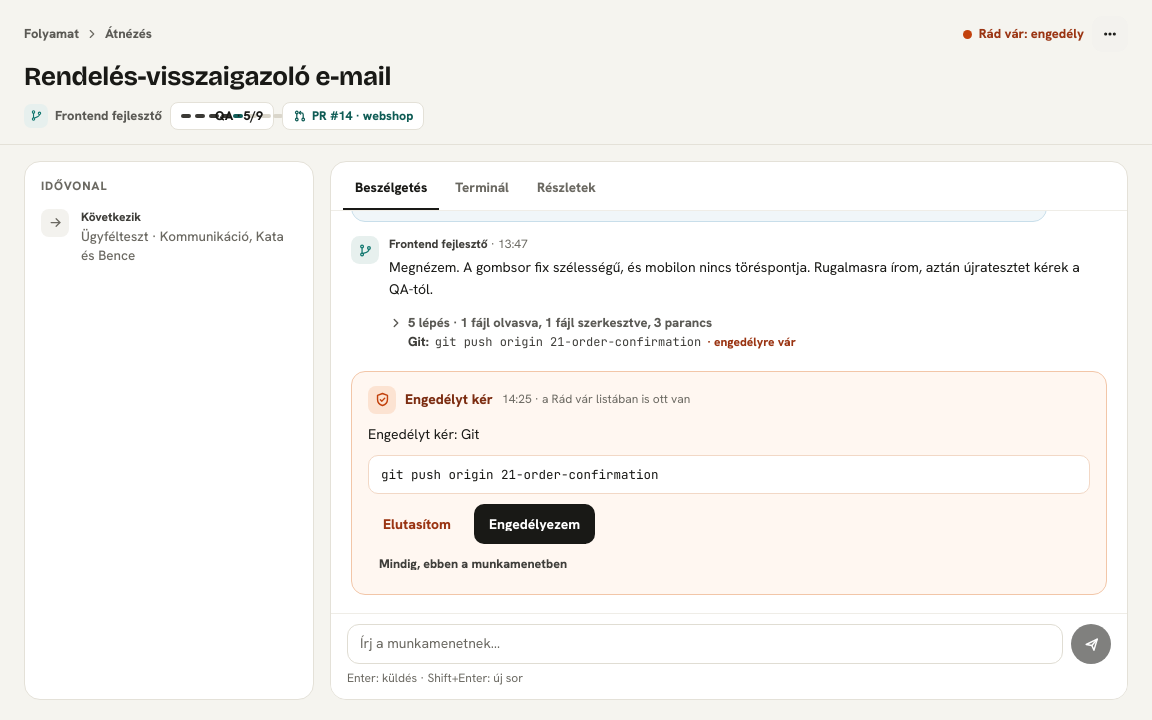
Scenario: session details public settings › shows AI model and permission mode from MemberView without fetching config
This screenshot has width=1152, height=720.
(page scrolled)
Click the tab "Részletek".
click(566, 189)  # box [525, 168, 608, 210]
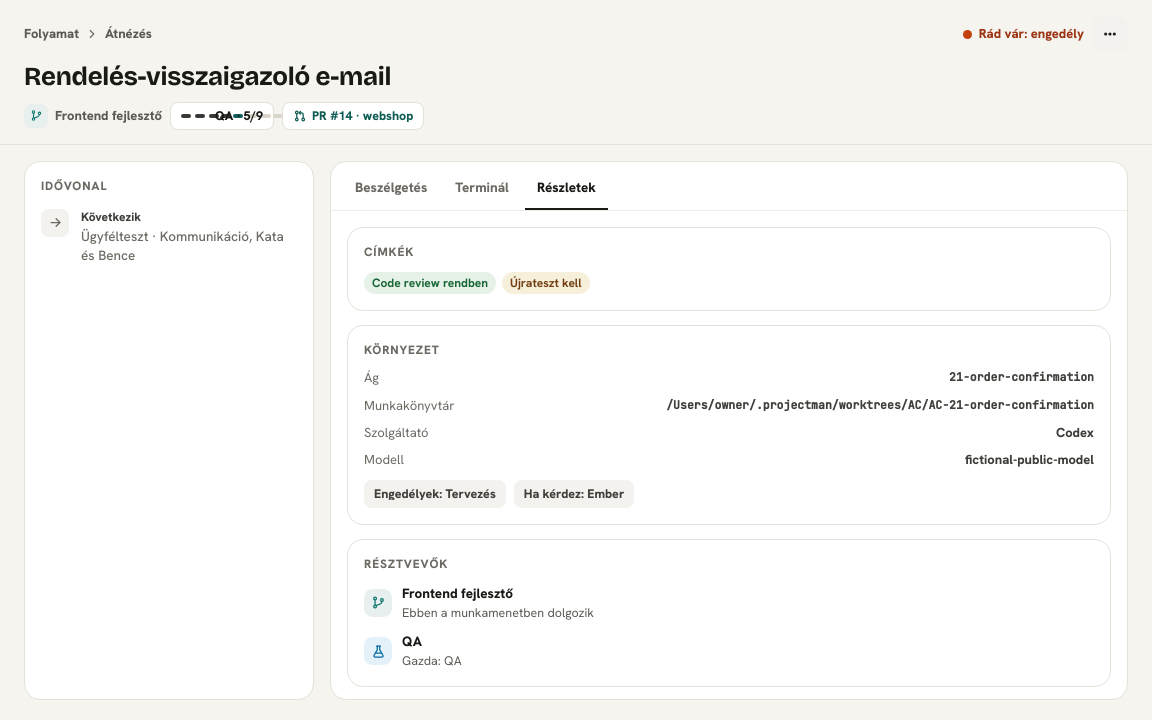
Result: the text "fictional-public-model" is shown at [965, 451, 1094, 469]
Result: the text "Codex" is shown at [1056, 424, 1094, 442]
